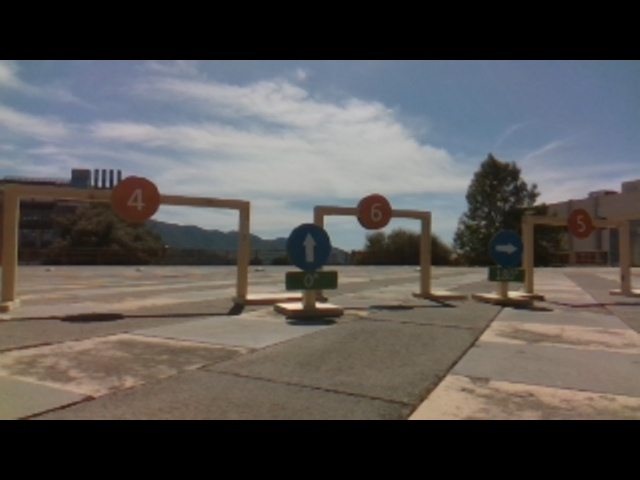0_degree: (284, 270, 339, 291)
180_degree: (487, 266, 528, 284)
arrow_right: (489, 226, 525, 265)
arrow_up: (284, 224, 335, 271)
checkpoint_foot: (415, 284, 470, 302), (232, 286, 281, 306)
checkpoint_side: (2, 179, 26, 298), (234, 195, 254, 297), (416, 205, 435, 294), (616, 208, 635, 289), (520, 213, 538, 291)
checkpoint_signal: (1, 181, 258, 210), (310, 201, 438, 220), (522, 212, 633, 232)
five: (564, 207, 594, 238)
four: (107, 171, 165, 225)
six: (353, 193, 393, 228)
